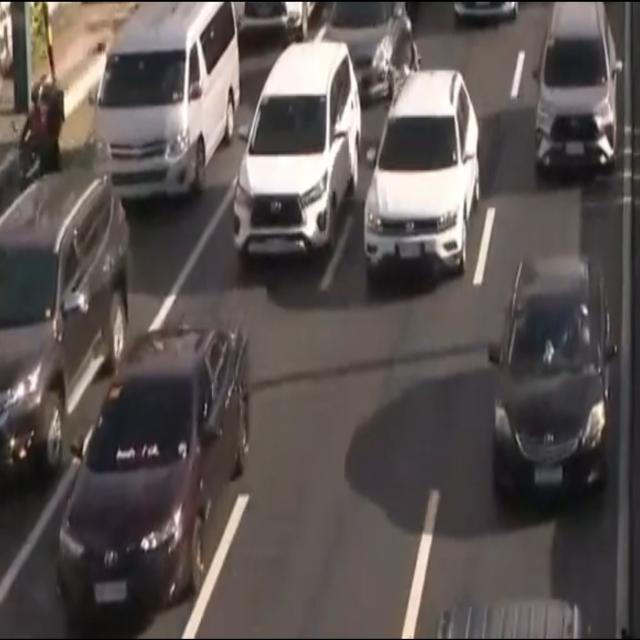Motorcycle: (12, 87, 72, 187)
SUV: (0, 172, 130, 477), (241, 49, 361, 264), (534, 0, 621, 178)
Sedan: (56, 314, 247, 633), (494, 253, 615, 498), (370, 66, 477, 270), (317, 0, 418, 101)
Van: (90, 0, 241, 199)
